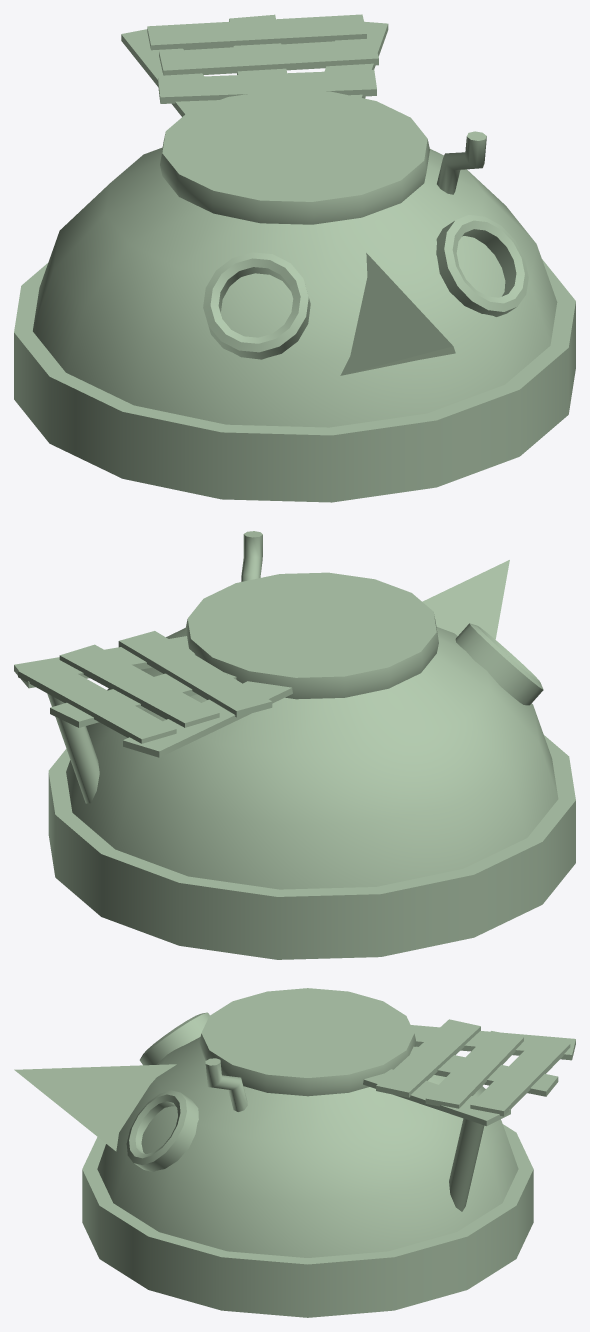
Rendered from MESH_RoundHouse05.fbx.
3 views of the same model, one above another, from view 1: azimuth 30°, elevation 25°; view 2: azimuth 150°, elevation 25°; view 3: azimuth 270°, elevation 25° (orthographic). The views are drawn at different scales.
Parts seen in each view (by area): view 1: MESH_RoundHouse05; view 2: MESH_RoundHouse05; view 3: MESH_RoundHouse05.
Boxes of the visible parts, bbox=[...] form: MESH_RoundHouse05: bbox=[14, 14, 575, 502]; MESH_RoundHouse05: bbox=[14, 531, 575, 959]; MESH_RoundHouse05: bbox=[14, 988, 575, 1317].
Size of the model in its own units: 6.07 by 7.55 by 3.1.
